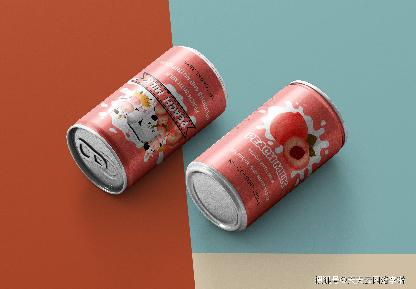Can: (186, 81, 347, 232), (67, 46, 227, 194)
